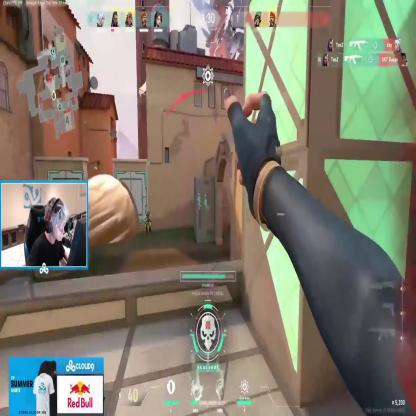enemy: (144, 210, 152, 233)
enemy_head: (146, 211, 150, 216)
